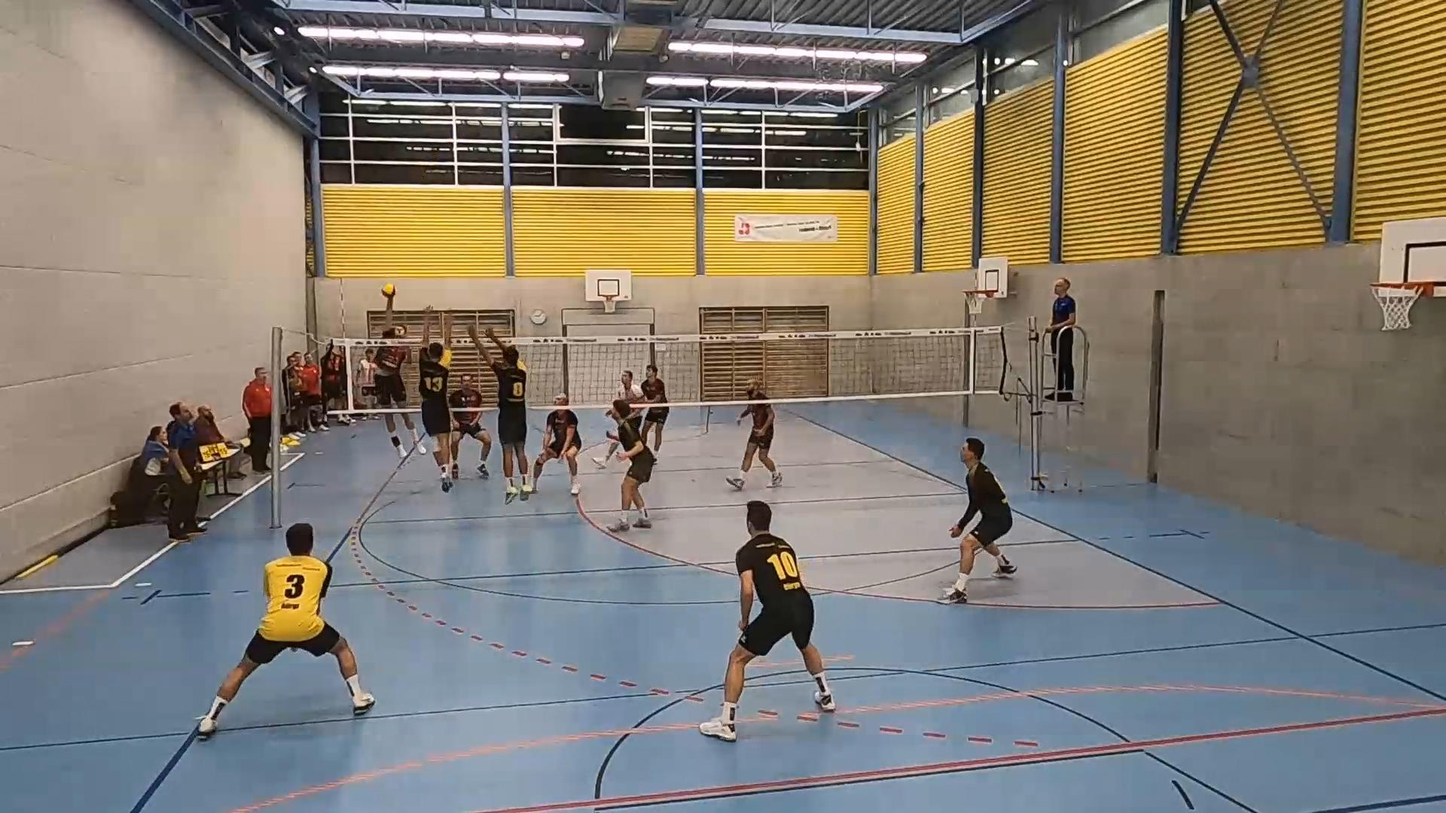Attack: (369, 279, 428, 468)
Block: (461, 325, 532, 498), (414, 314, 456, 492)
Player: (199, 523, 374, 737), (700, 501, 835, 741), (943, 438, 1016, 603), (608, 398, 654, 531), (726, 382, 782, 489), (532, 394, 581, 493), (449, 373, 492, 479), (639, 365, 668, 451), (615, 370, 643, 432)
ball: (382, 284, 399, 296)
